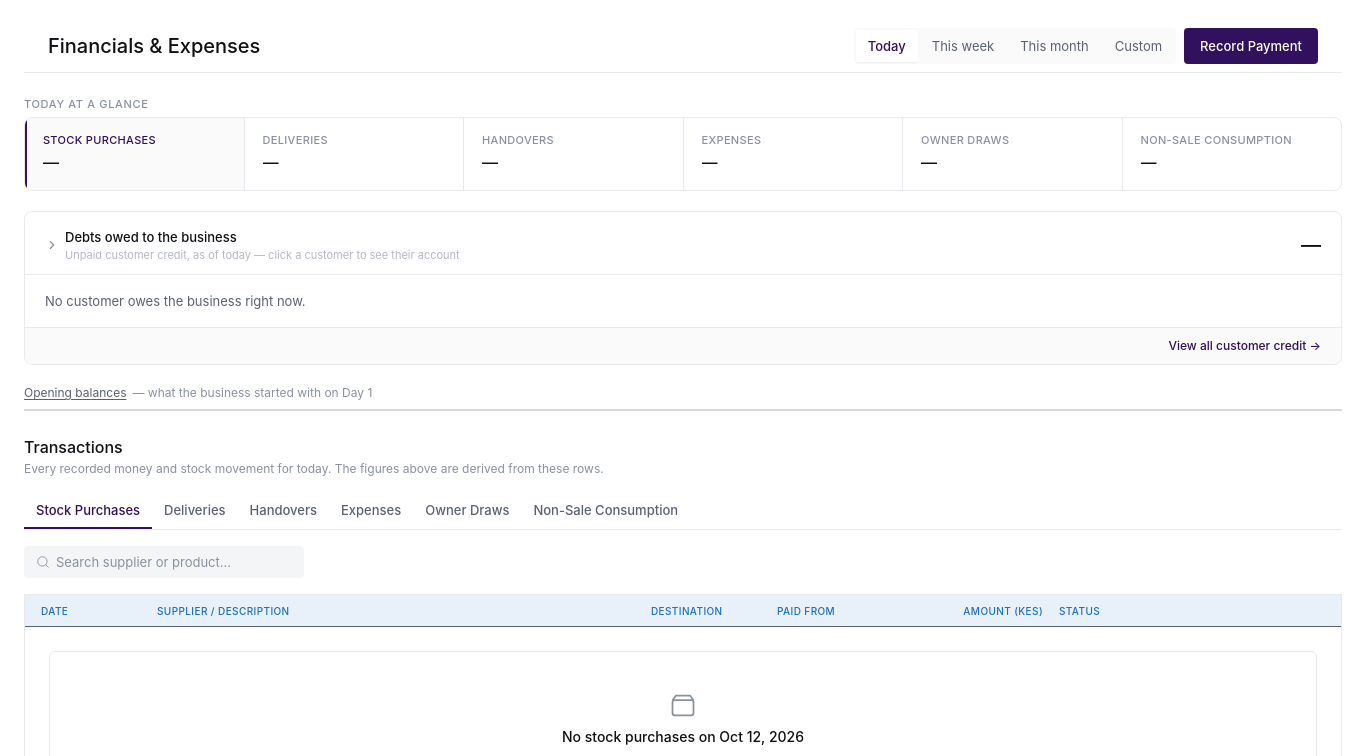
Test: /admin/financials — payment drawer › an ingredient offers the Store as the only destination
Click the button "Record Payment": (1251, 46) [1184, 28, 1318, 64]
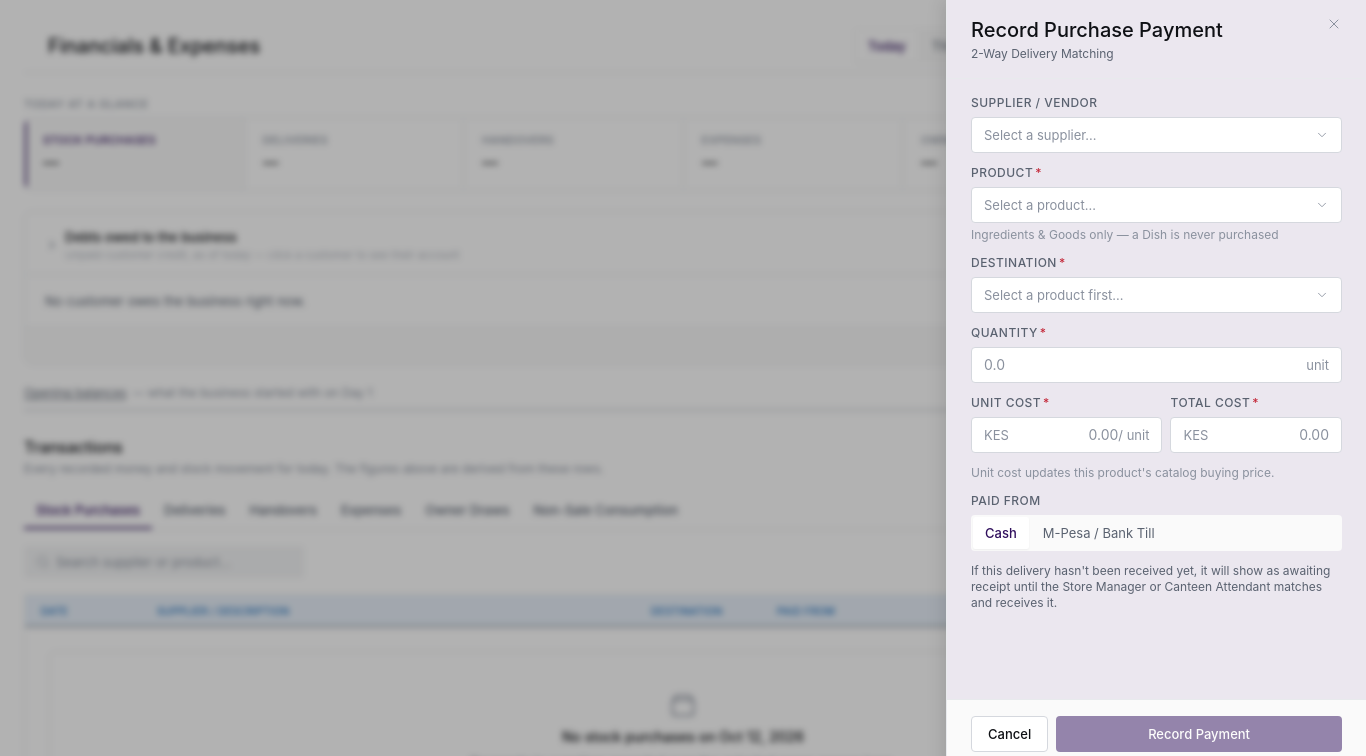
Click the dropdown labelled "Select a product…": (1040, 205) [971, 187, 1342, 223]
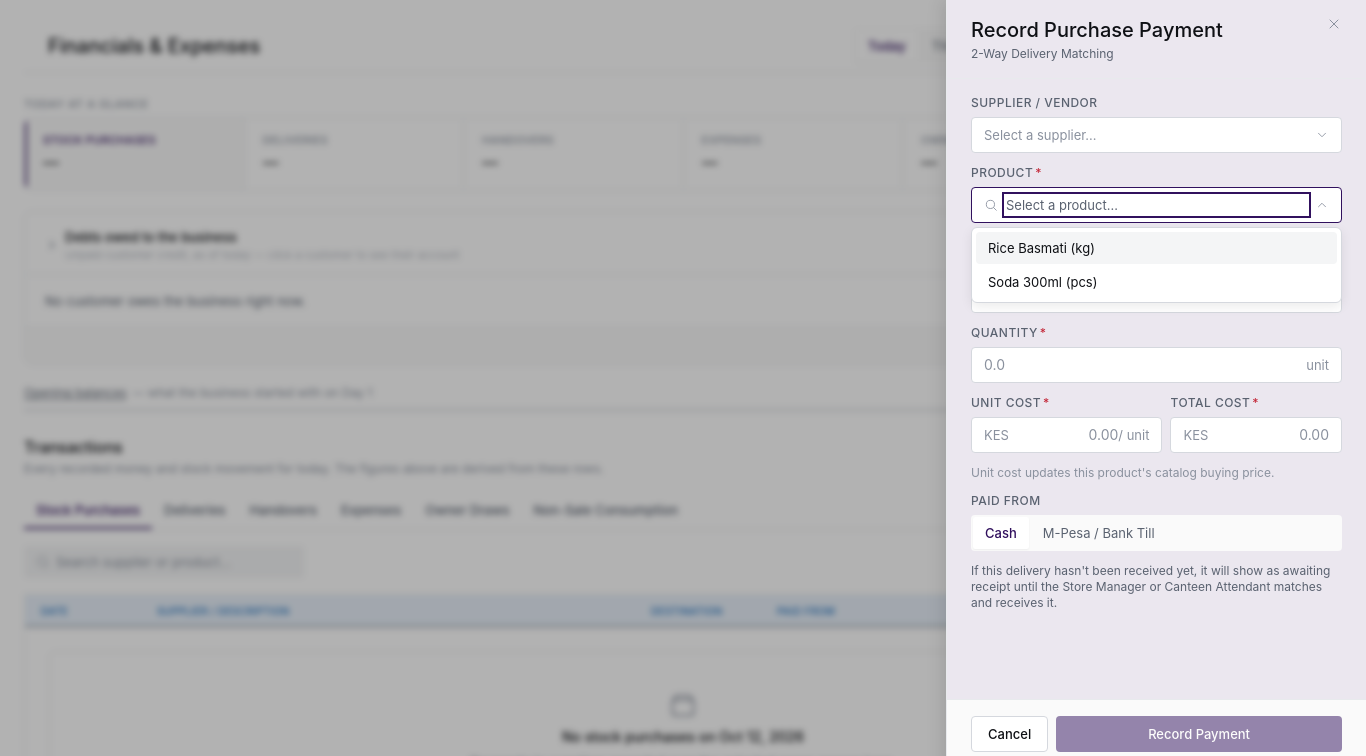
Click the option "Rice Basmati (kg)": (1041, 248) [976, 232, 1337, 264]
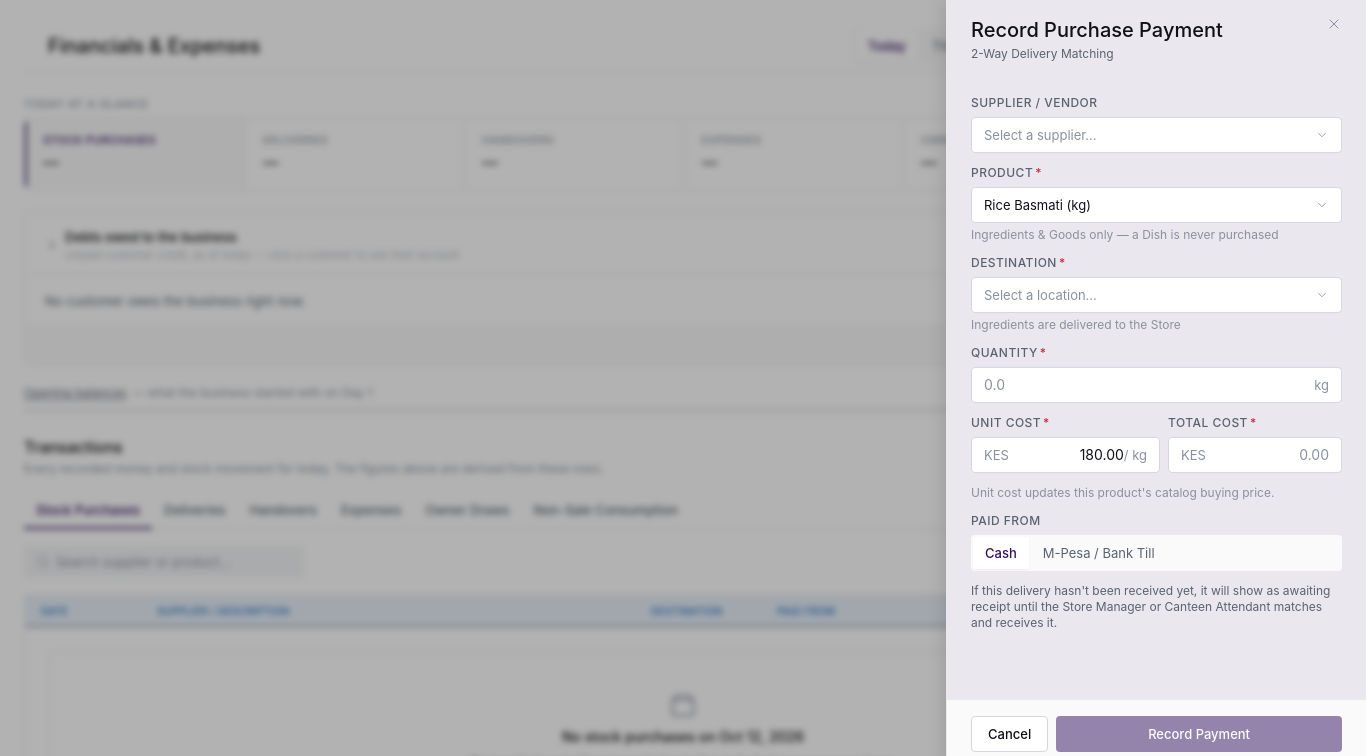
Click the dropdown named "Destination": (1040, 295) [971, 277, 1342, 313]
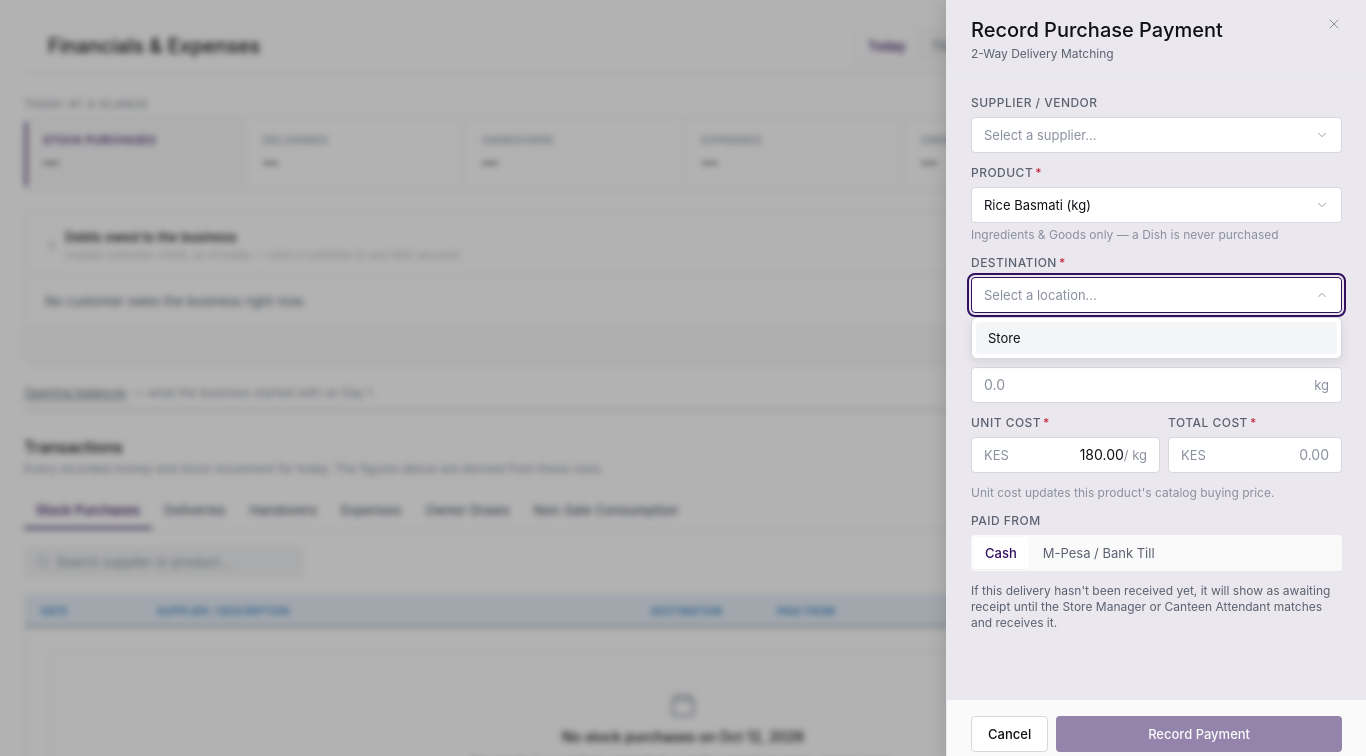
Expected: the option "Store" is shown, [976, 322, 1337, 354]
